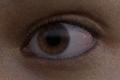eye: (37, 22, 69, 56)
